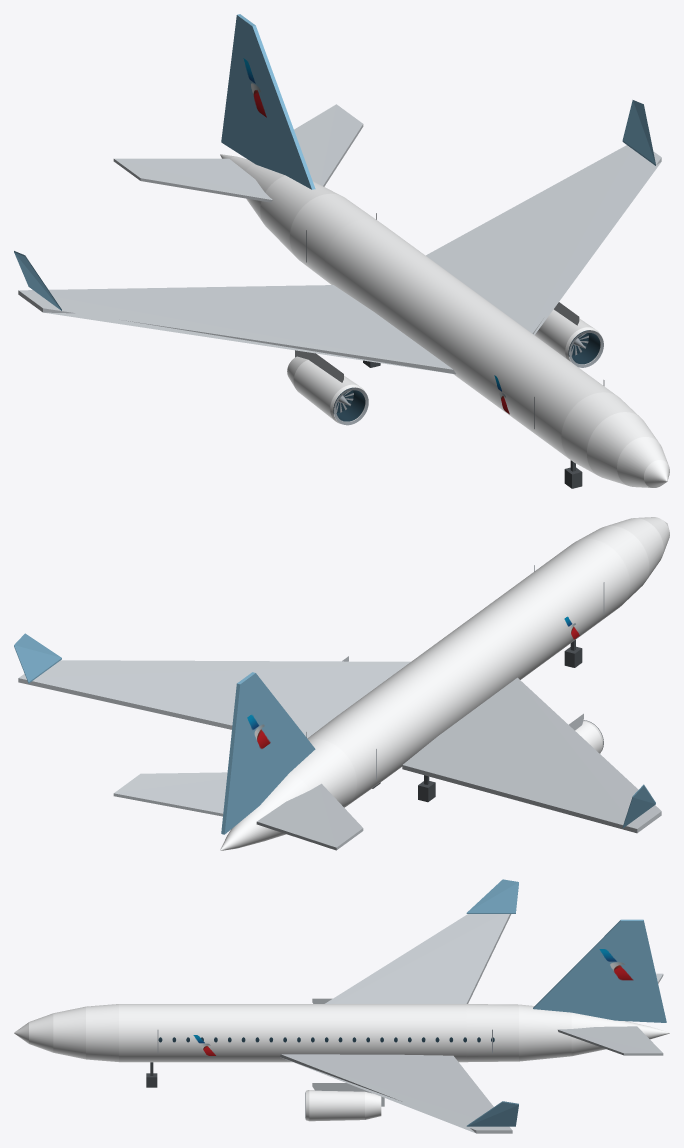
The model's file is a321-AAL-v2.gltf.
3 renders of one model, top to bottom at view 1: azimuth 30°, elevation 25°; view 2: azimuth 150°, elevation 25°; view 3: azimuth 270°, elevation 25°, orthographic. The views are drawn at different scales.
Parts seen in each view (by area): view 1: object 1; view 2: object 1, Gear; view 3: object 1.
Boxes of the visible parts, <box> form: object 1: <box>14,14,669,487</box>; object 1: <box>14,517,669,850</box>; Gear: <box>372,640,582,802</box>; object 1: <box>14,879,669,1133</box>.
Size of the model in its own units: 36 by 12.52 by 45.
Materials: 7 (1 with a texture image).
